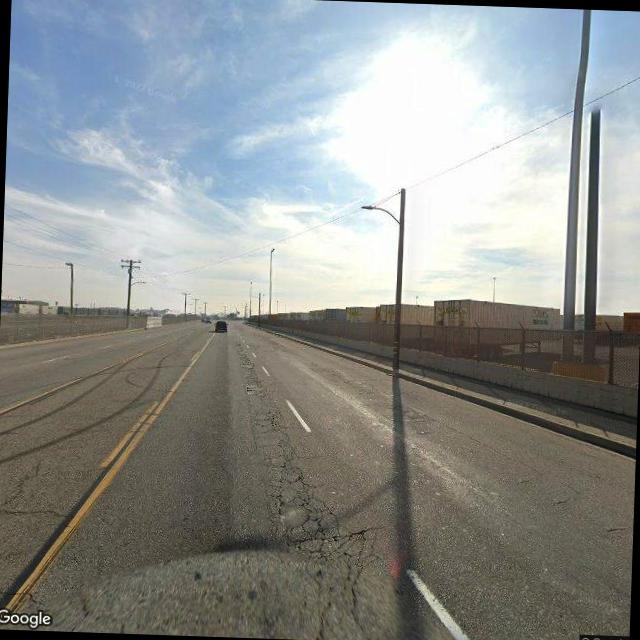crack: (240, 410, 392, 640)
